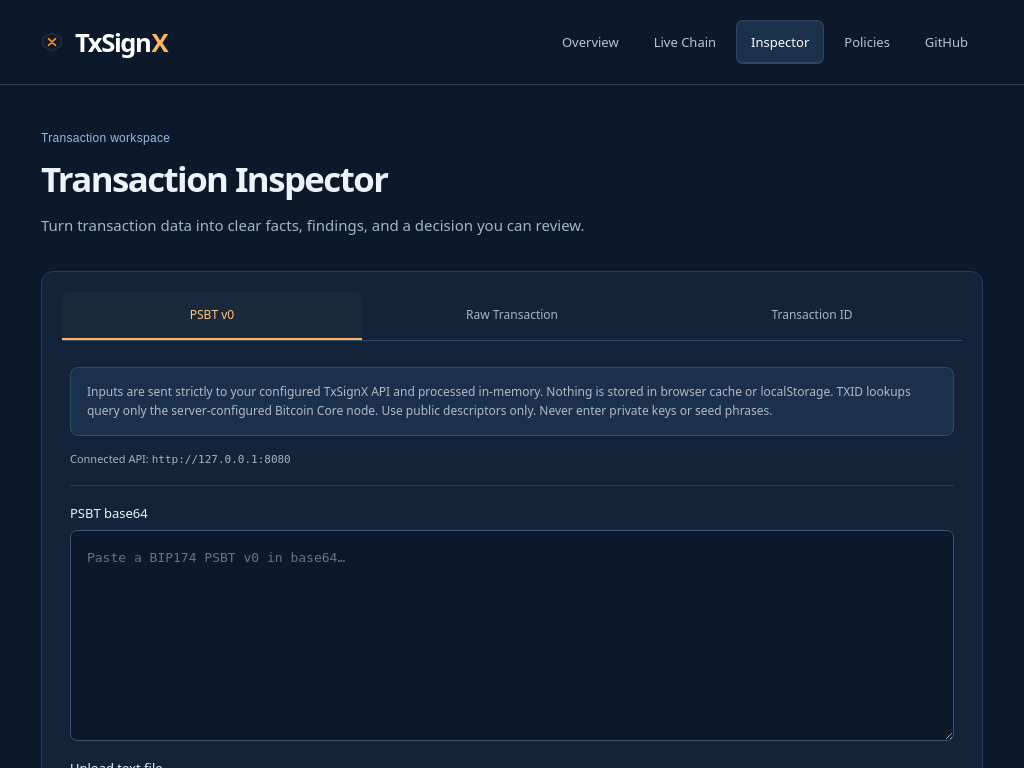
Test case: product flows › renders backend BLOCK and separate coverage with actual facts
Type "cHNidP8=" into the text box labelled "PSBT base64" at (512, 636), box x1=70 y1=530 x2=954 y2=741
(page scrolled)
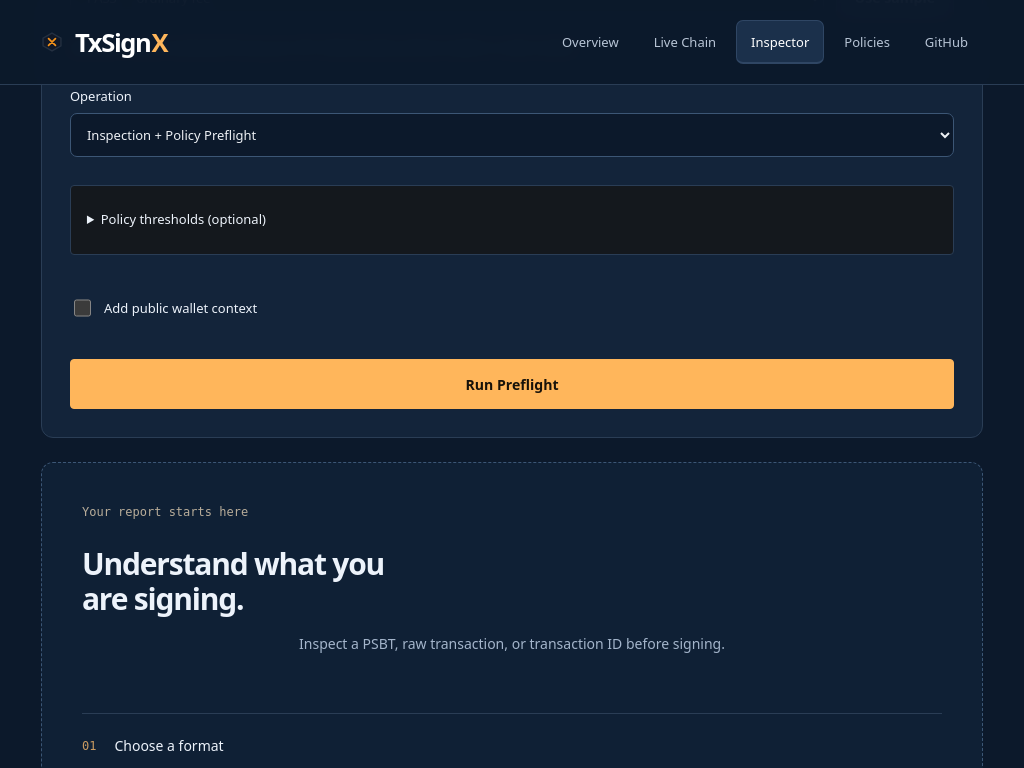
Click the button "Run Preflight" at (512, 384), box x1=70 y1=359 x2=954 y2=409
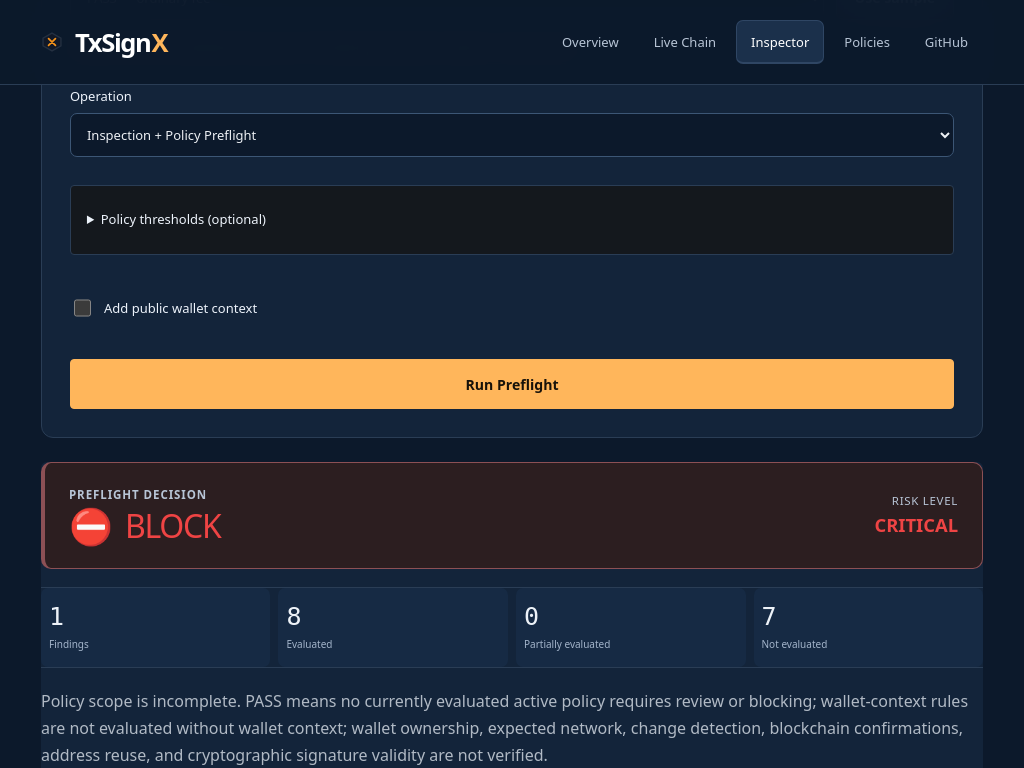
expect the heading "BLOCK" is shown: met, box x1=125 y1=510 x2=220 y2=542
